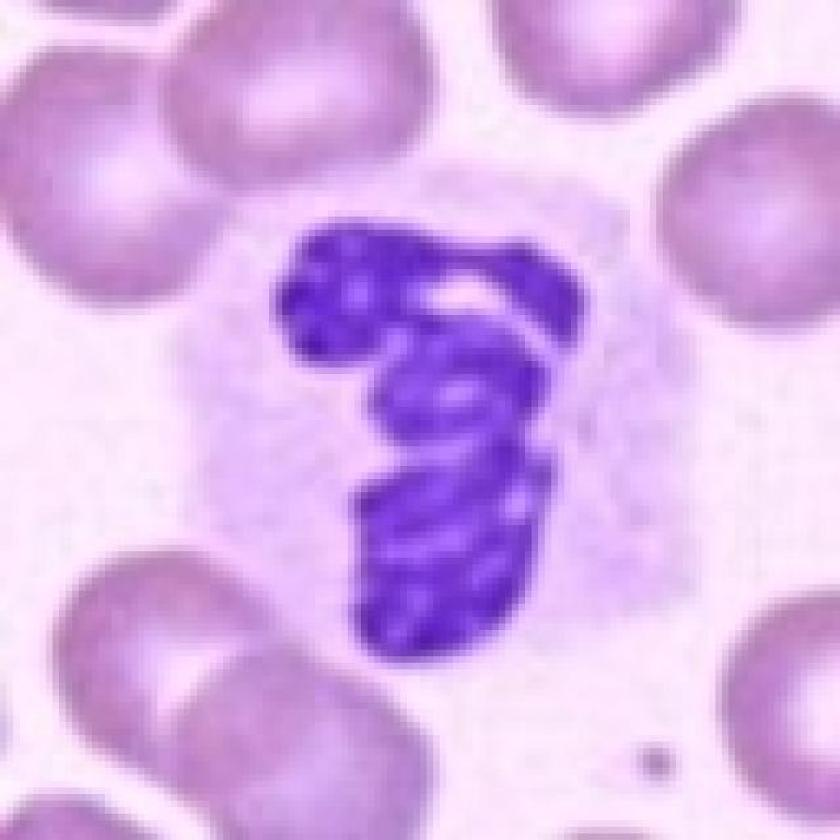neutrophil: (164, 156, 771, 691)
